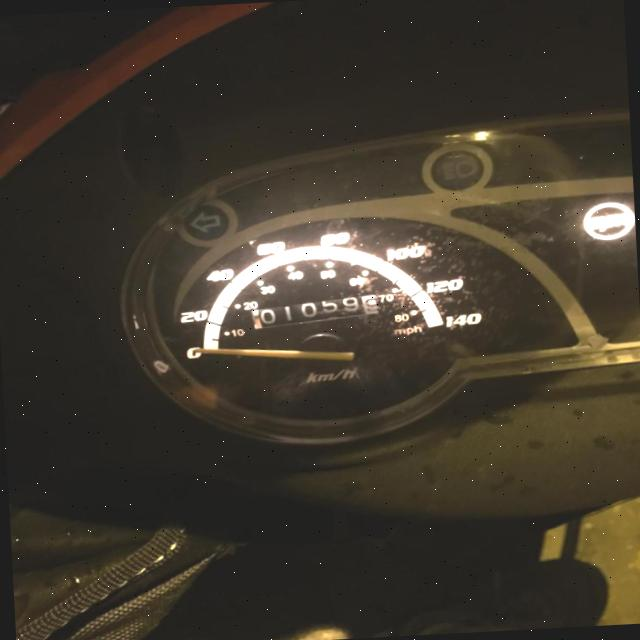odometer: (246, 291, 381, 331)
